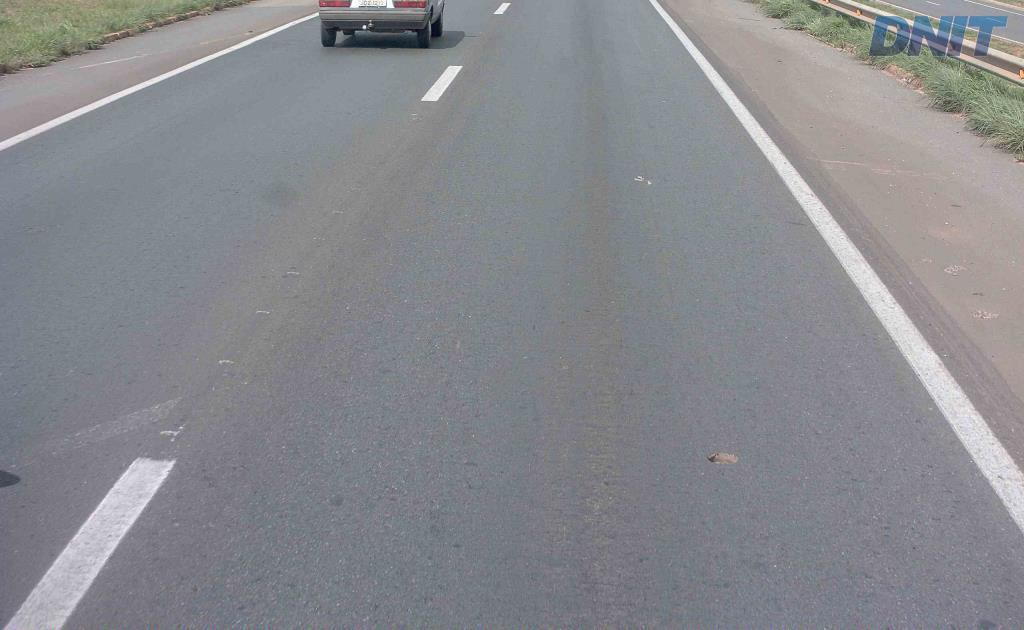pothole: (698, 439, 746, 469)
